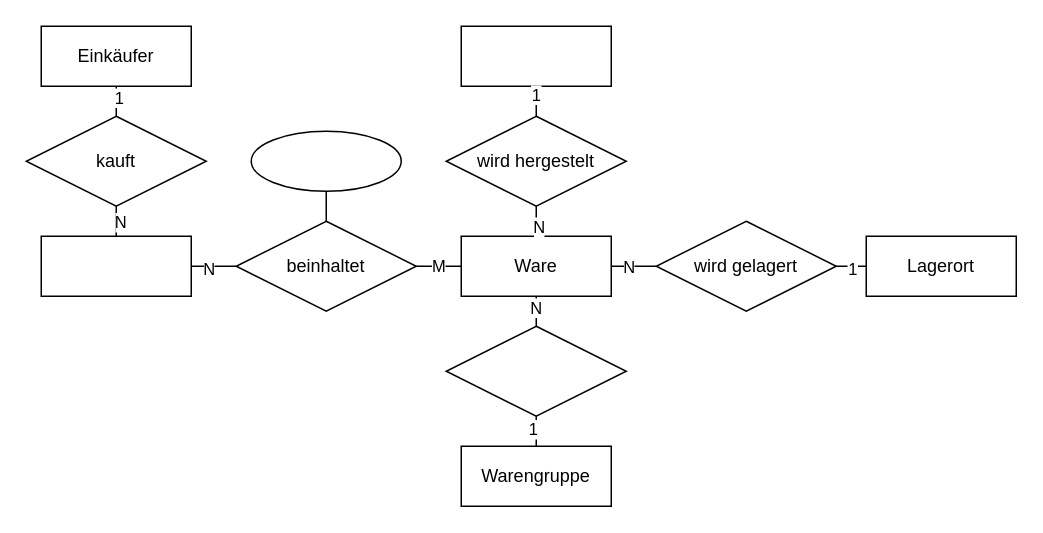
Image size: 1043x533. Some labels were removed from this diagram. Each missing label, with the centre of its shape:
anzahl: [325,160]
Bestellung: [115,265]
hat: [535,370]
Hersteller: [535,55]
